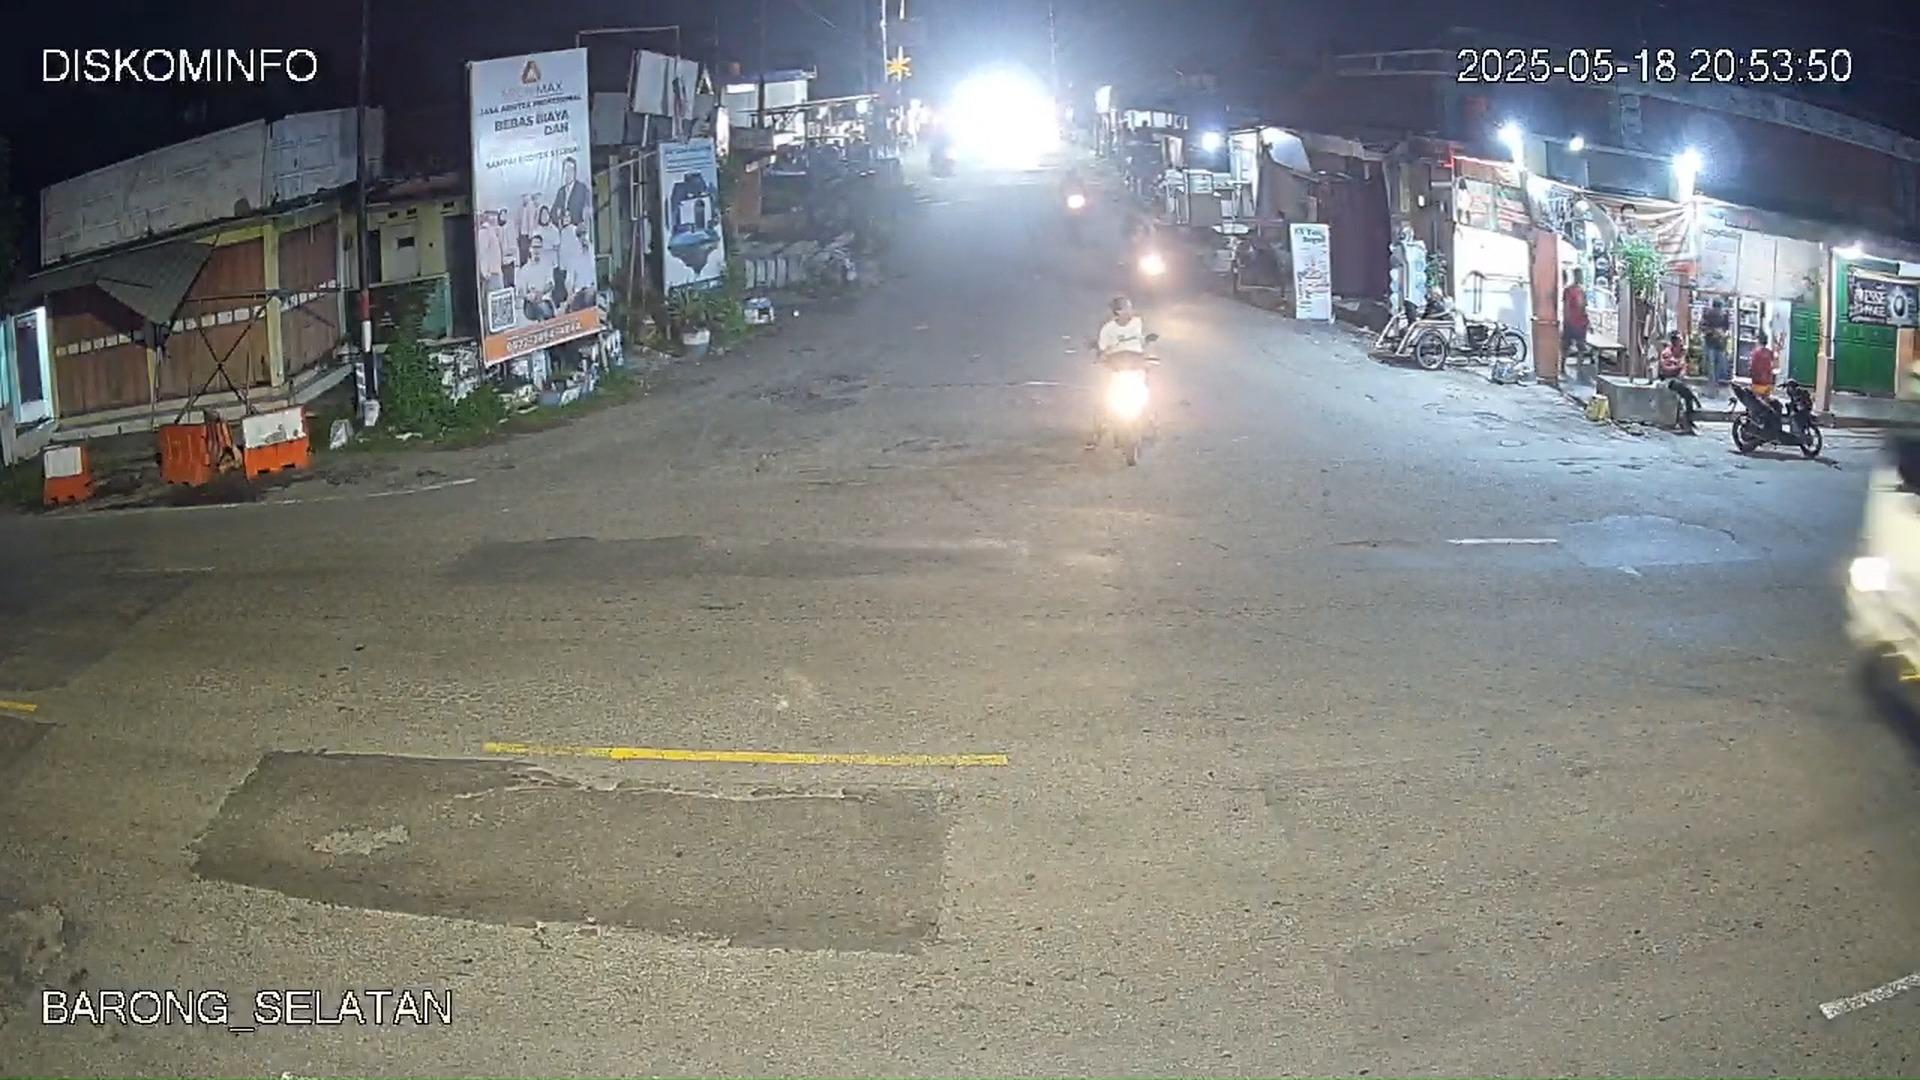Motor: (1079, 289, 1156, 462), (1726, 371, 1822, 455)
mobil: (1840, 414, 1920, 740)
